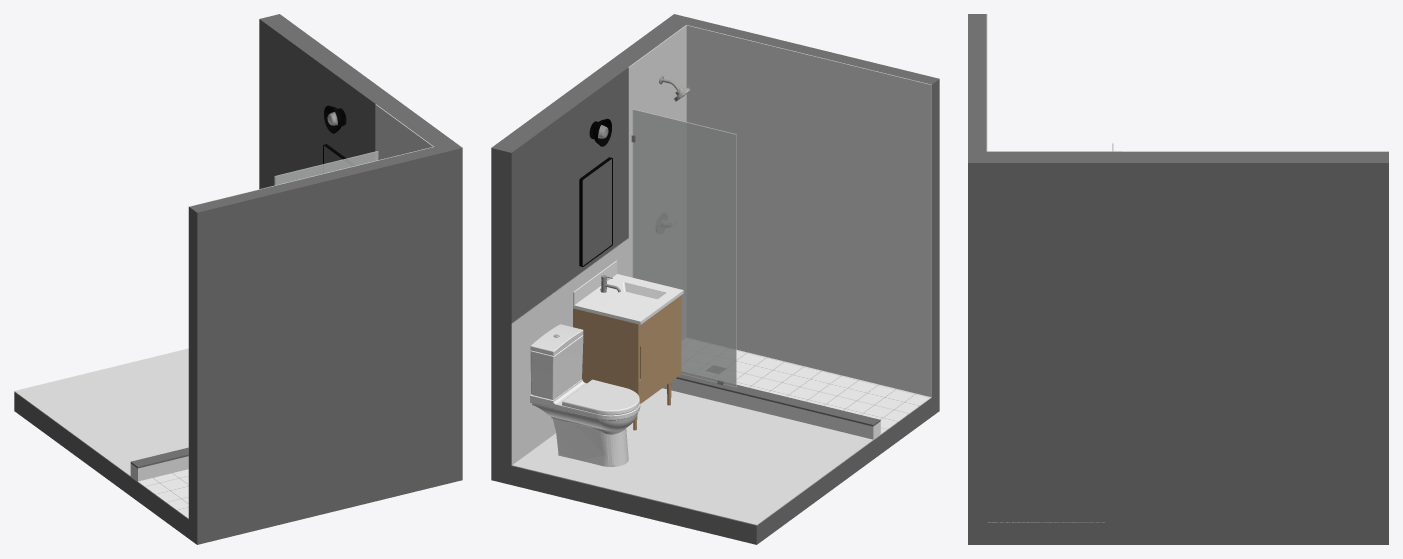
3 views of the same model, side by side, from view 1: azimuth 30°, elevation 25°; view 2: azimuth 150°, elevation 25°; view 3: azimuth 270°, elevation 25° (orthographic). The views are drawn at different scales.
Parts seen in each view (by area): view 1: 3DGeom-67, 3DGeom-32, 3DGeom-56, 3DGeom-68, 3DGeom-33, 3DGeom-31, 3DGeom-58, 3DGeom-35, 3DGeom-62, 3DGeom-57; view 2: 3DGeom-57, 3DGeom-32, 3DGeom-35, 3DGeom-56, 3DGeom-58, 3DGeom-68, 3DGeom-33, 3DGeom-31, 3DGeom-27, 3DGeom-59, 3DGeom-67, 3DGeom-3 (+9 smaller); view 3: 3DGeom-68, 3DGeom-33, 3DGeom-67.
Boxes of the visible parts, box(x1,y1,x2,y2) form: 3DGeom-67: box(189, 147, 442, 525); 3DGeom-32: box(14, 348, 188, 476); 3DGeom-56: box(259, 19, 375, 189); 3DGeom-68: box(260, 14, 462, 465); 3DGeom-33: box(14, 392, 462, 544); 3DGeom-31: box(137, 469, 188, 519); 3DGeom-58: box(383, 110, 433, 158); 3DGeom-35: box(274, 151, 378, 185); 3DGeom-62: box(137, 456, 188, 481); 3DGeom-57: box(188, 146, 433, 519); 3DGeom-57: box(686, 25, 931, 397); 3DGeom-32: box(511, 388, 873, 525); 3DGeom-35: box(632, 109, 736, 387); 3DGeom-56: box(511, 68, 627, 322); 3DGeom-58: box(636, 25, 686, 339); 3DGeom-68: box(491, 14, 693, 465); 3DGeom-33: box(491, 392, 939, 544); 3DGeom-31: box(682, 338, 931, 435); 3DGeom-27: box(573, 295, 681, 430); 3DGeom-59: box(511, 238, 628, 464); 3DGeom-67: box(686, 19, 939, 397); 3DGeom-3: box(530, 324, 640, 462); 3DGeom-68: box(968, 151, 1388, 522); 3DGeom-33: box(968, 523, 1388, 544); 3DGeom-67: box(968, 14, 986, 151).
Bounding box in the file's own units: 2.17 × 2.59 × 2.59.
